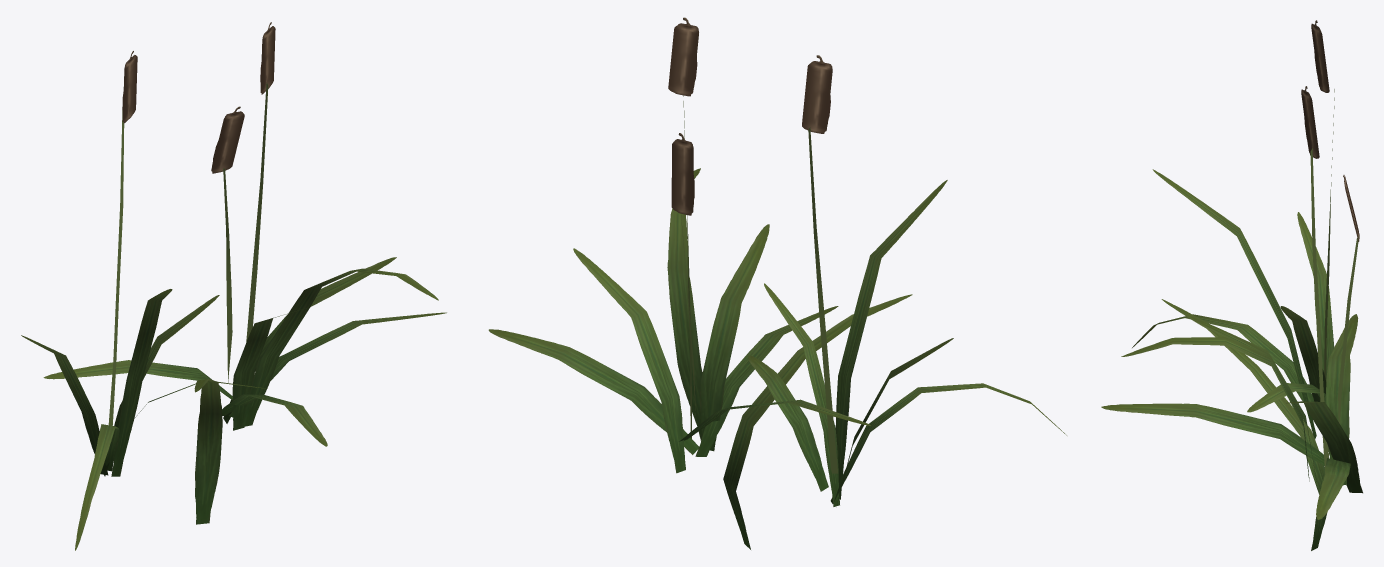
File: Grass_F_2.fbx
The picture shows the model from 3 angles, left to right: view 1: azimuth 30°, elevation 25°; view 2: azimuth 150°, elevation 25°; view 3: azimuth 270°, elevation 25°; orthographic projection. The views are drawn at different scales.
Parts seen in each view (by area): view 1: Grass_F_2__6_; view 2: Grass_F_2__6_; view 3: Grass_F_2__6_.
Part boxes in pixels (x1=…): Grass_F_2__6_: x1=21, y1=22, x2=446, y2=550; Grass_F_2__6_: x1=488, y1=17, x2=1066, y2=549; Grass_F_2__6_: x1=1101, y1=20, x2=1362, y2=550.
Size of the model in its own units: 0.4072 by 0.4083 by 0.1992.
